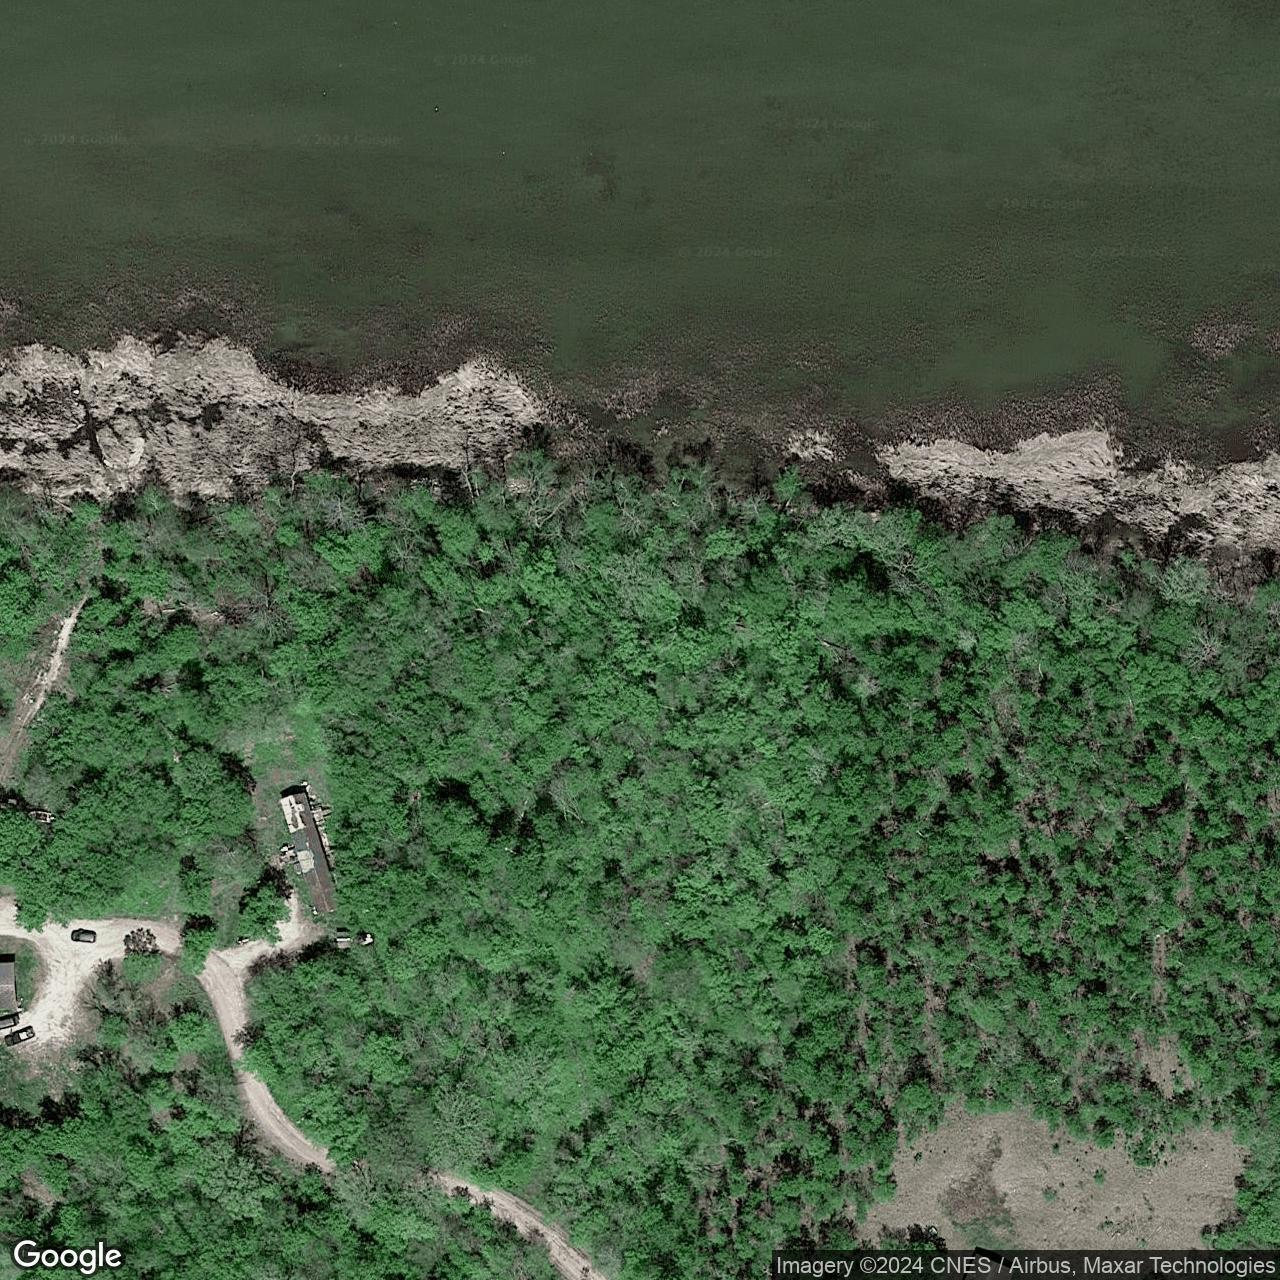House: (0, 961, 18, 1010)
Trailer: (278, 791, 341, 915)
